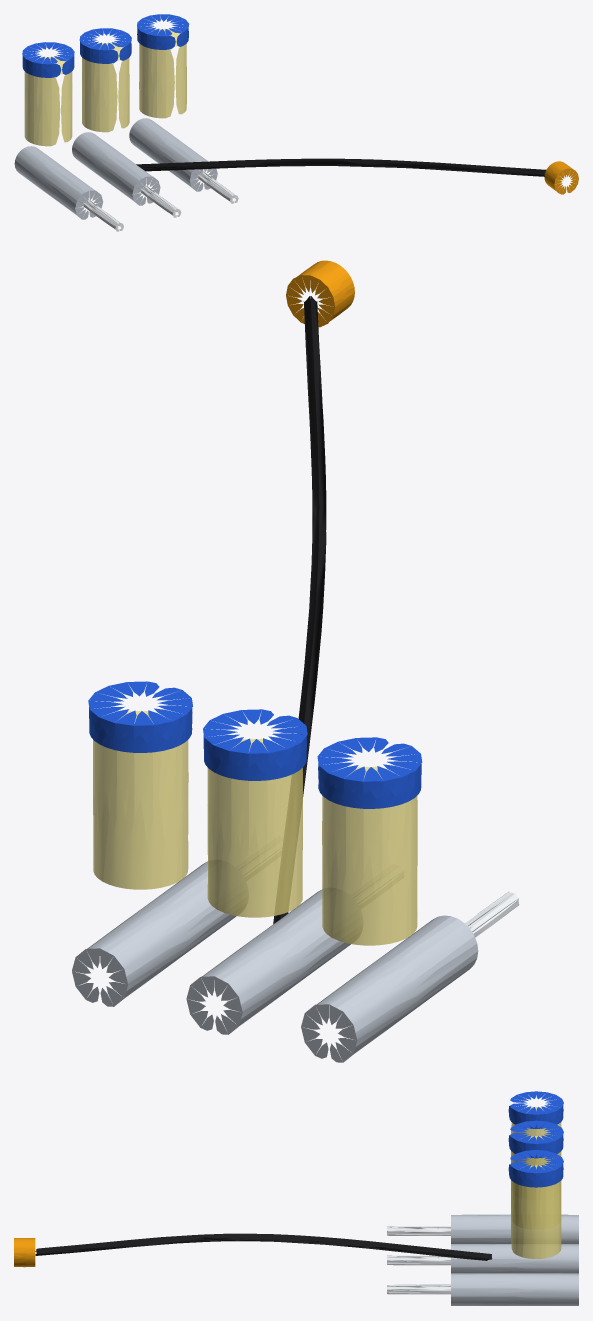
The model's file is pedal_hydraulics.glb.
The picture shows the model from 3 angles, top to bottom: view 1: azimuth 30°, elevation 25°; view 2: azimuth 150°, elevation 25°; view 3: azimuth 270°, elevation 25°; orthographic projection. The views are drawn at different scales.
Parts seen in each view (by area): view 1: Pedal_Bulkhead_Master_Cylinders_Assembly; view 2: Pedal_Bulkhead_Master_Cylinders_Assembly; view 3: Pedal_Bulkhead_Master_Cylinders_Assembly.
Boxes of the visible parts, box(x1,y1,x2,y2) form: Pedal_Bulkhead_Master_Cylinders_Assembly: box(14, 14, 578, 231); Pedal_Bulkhead_Master_Cylinders_Assembly: box(72, 260, 519, 1062); Pedal_Bulkhead_Master_Cylinders_Assembly: box(14, 1091, 578, 1305).
Bounding box in the file's own units: 0.345 × 0.1499 × 0.53.
